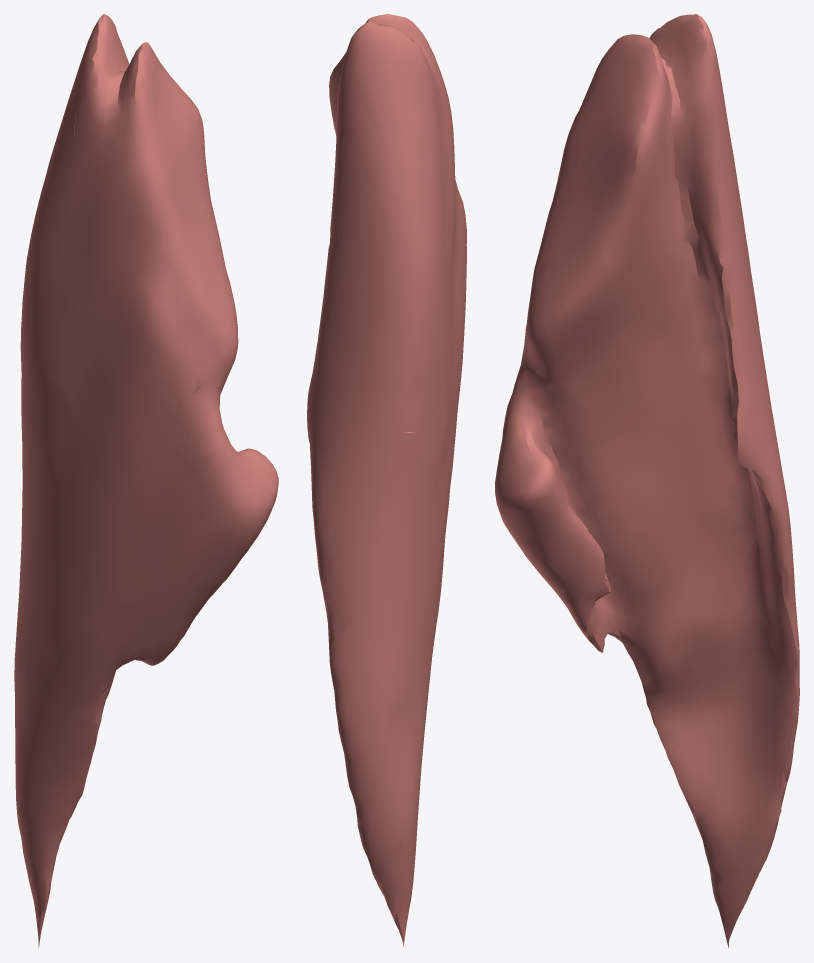
Rendered from fma63214-r_mm1831.glb.
3 views of the same model, side by side, from view 1: azimuth 30°, elevation 25°; view 2: azimuth 150°, elevation 25°; view 3: azimuth 270°, elevation 25° (orthographic). The views are drawn at different scales.
Visible parts, largest first — view 1: FMA63214-R_MM1831; view 2: FMA63214-R_MM1831; view 3: FMA63214-R_MM1831.
Boxes of the visible parts, x1,y1,x2,y2 form: FMA63214-R_MM1831: [14, 14, 278, 947]; FMA63214-R_MM1831: [307, 14, 466, 947]; FMA63214-R_MM1831: [495, 14, 799, 947].
Size of the model in its own units: 0.0086 by 0.0469 by 0.0135.
